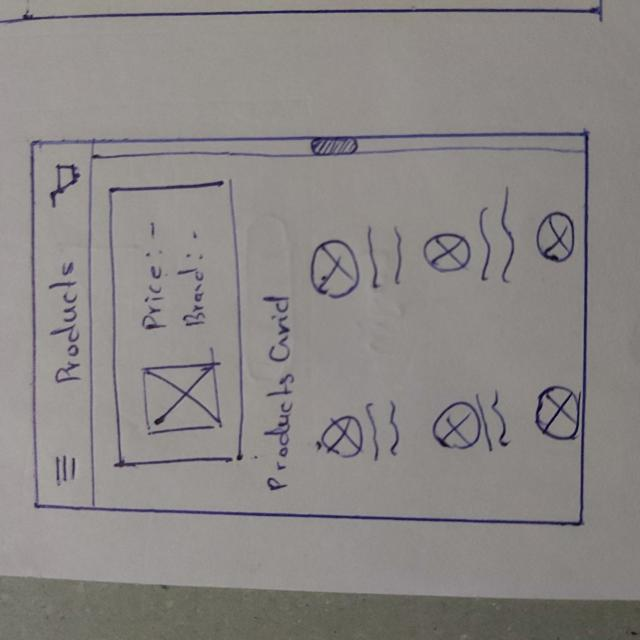ActionButton: (47, 162, 81, 208)
AppBar: (30, 138, 98, 512)
DrawerToggleButton: (49, 451, 83, 489)
GridListView: (298, 154, 585, 517)
Icon: (45, 160, 83, 207)
Image: (143, 366, 223, 431)
Layout: (107, 185, 247, 464)
MainLayout: (29, 136, 592, 528)
RoundedImage: (308, 239, 363, 301), (531, 386, 580, 444), (431, 401, 482, 452), (319, 412, 367, 460), (536, 209, 576, 263), (423, 232, 471, 275)
ScrollBar: (93, 132, 590, 154)
ScrollView: (91, 138, 582, 521)
TextView: (263, 293, 293, 488), (49, 260, 82, 383), (479, 193, 517, 283), (140, 219, 168, 330), (179, 226, 208, 330), (363, 400, 405, 462), (366, 223, 404, 291), (479, 389, 510, 454)
